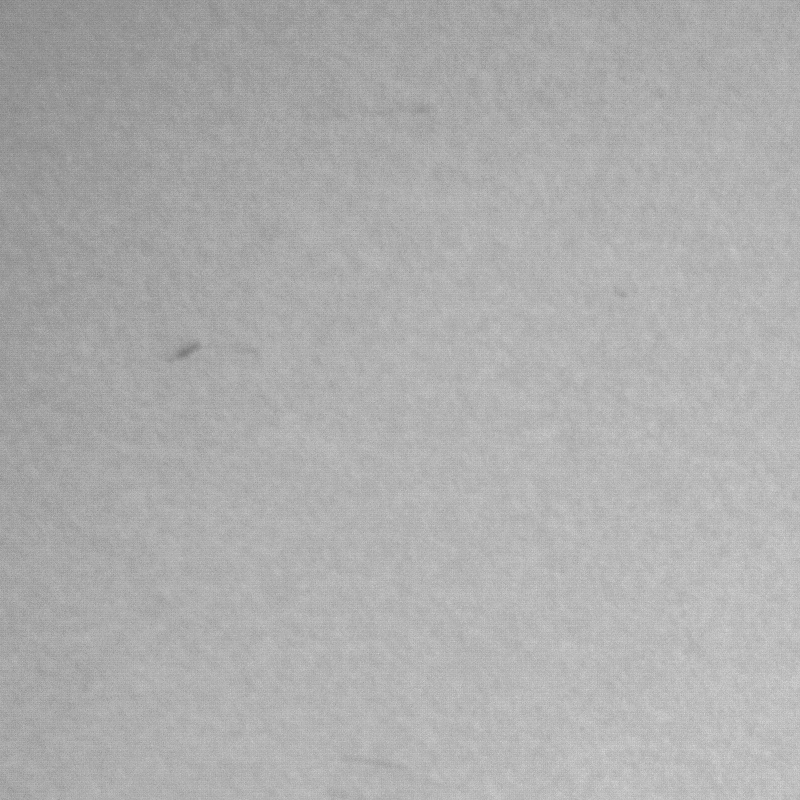defect: (168, 344, 204, 356), (620, 284, 629, 304)
